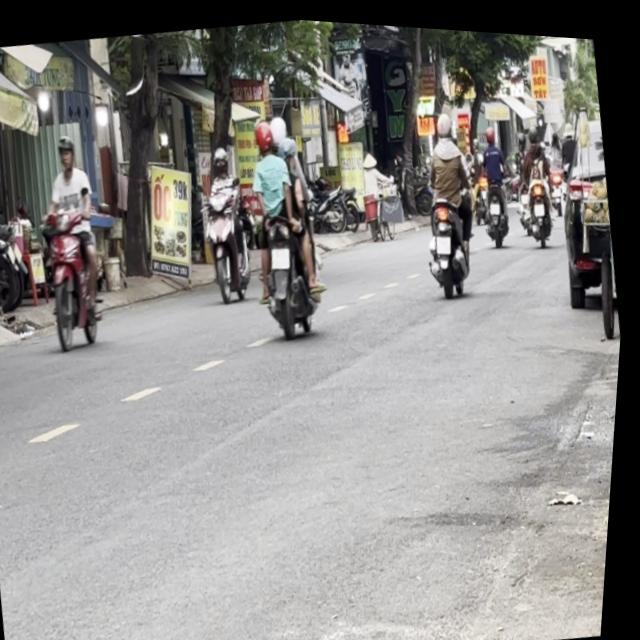helmet: (275, 130, 304, 167), (54, 132, 79, 172), (252, 114, 277, 152), (210, 141, 232, 173), (267, 108, 289, 140), (433, 101, 454, 134)
licenseplate: (229, 102, 342, 337), (18, 126, 124, 355), (405, 101, 492, 296), (190, 138, 264, 305)
nohelmet: (271, 240, 294, 267), (436, 226, 454, 250)
